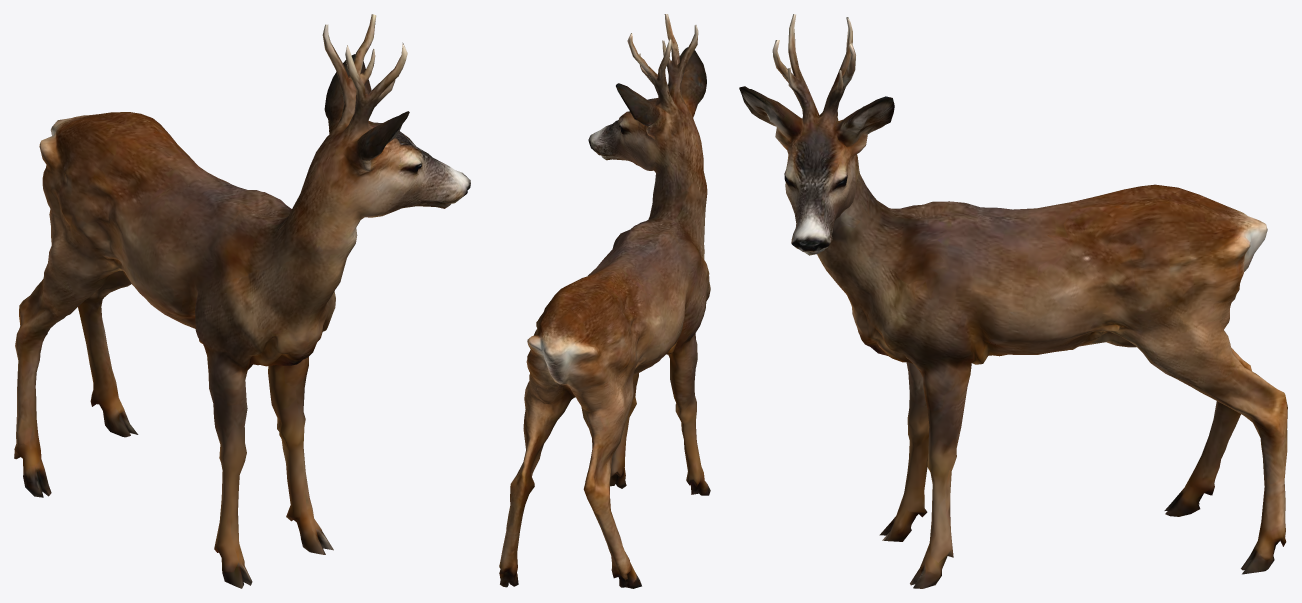
Rendered from reh.glb.
The picture shows the model from 3 angles, left to right: view 1: azimuth 30°, elevation 25°; view 2: azimuth 150°, elevation 25°; view 3: azimuth 270°, elevation 25°; orthographic projection. The views are drawn at different scales.
Parts seen in each view (by area): view 1: tripo_node_a5463955-37b6-41c5-b3e4-5498bc9fa291; view 2: tripo_node_a5463955-37b6-41c5-b3e4-5498bc9fa291; view 3: tripo_node_a5463955-37b6-41c5-b3e4-5498bc9fa291.
Boxes of the visible parts, x1,y1,x2,y2 form: tripo_node_a5463955-37b6-41c5-b3e4-5498bc9fa291: (14,14,470,588); tripo_node_a5463955-37b6-41c5-b3e4-5498bc9fa291: (499,14,710,588); tripo_node_a5463955-37b6-41c5-b3e4-5498bc9fa291: (739,14,1287,588).
Bounding box in the file's own units: 0.4683 × 1 × 0.8987.
Materials: 1 (1 with a texture image).
